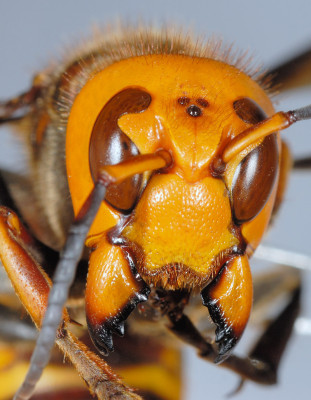asian_giant_hornet: (2, 20, 308, 400)
